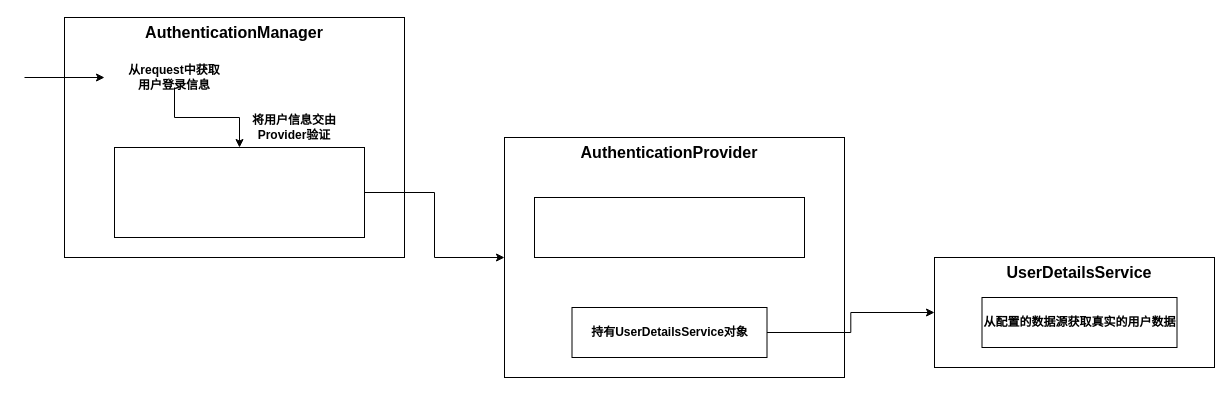
Some shapes in this 1232 by 395 pixel diagram are drawn without their labels. Each missing label, with the centre of its shape:
"将用户信息与真实用户数据进行比对——完成验证" belongs at pixel 669 227.
"持有多个AuthenticationProvider对象" belongs at pixel 239 192.
